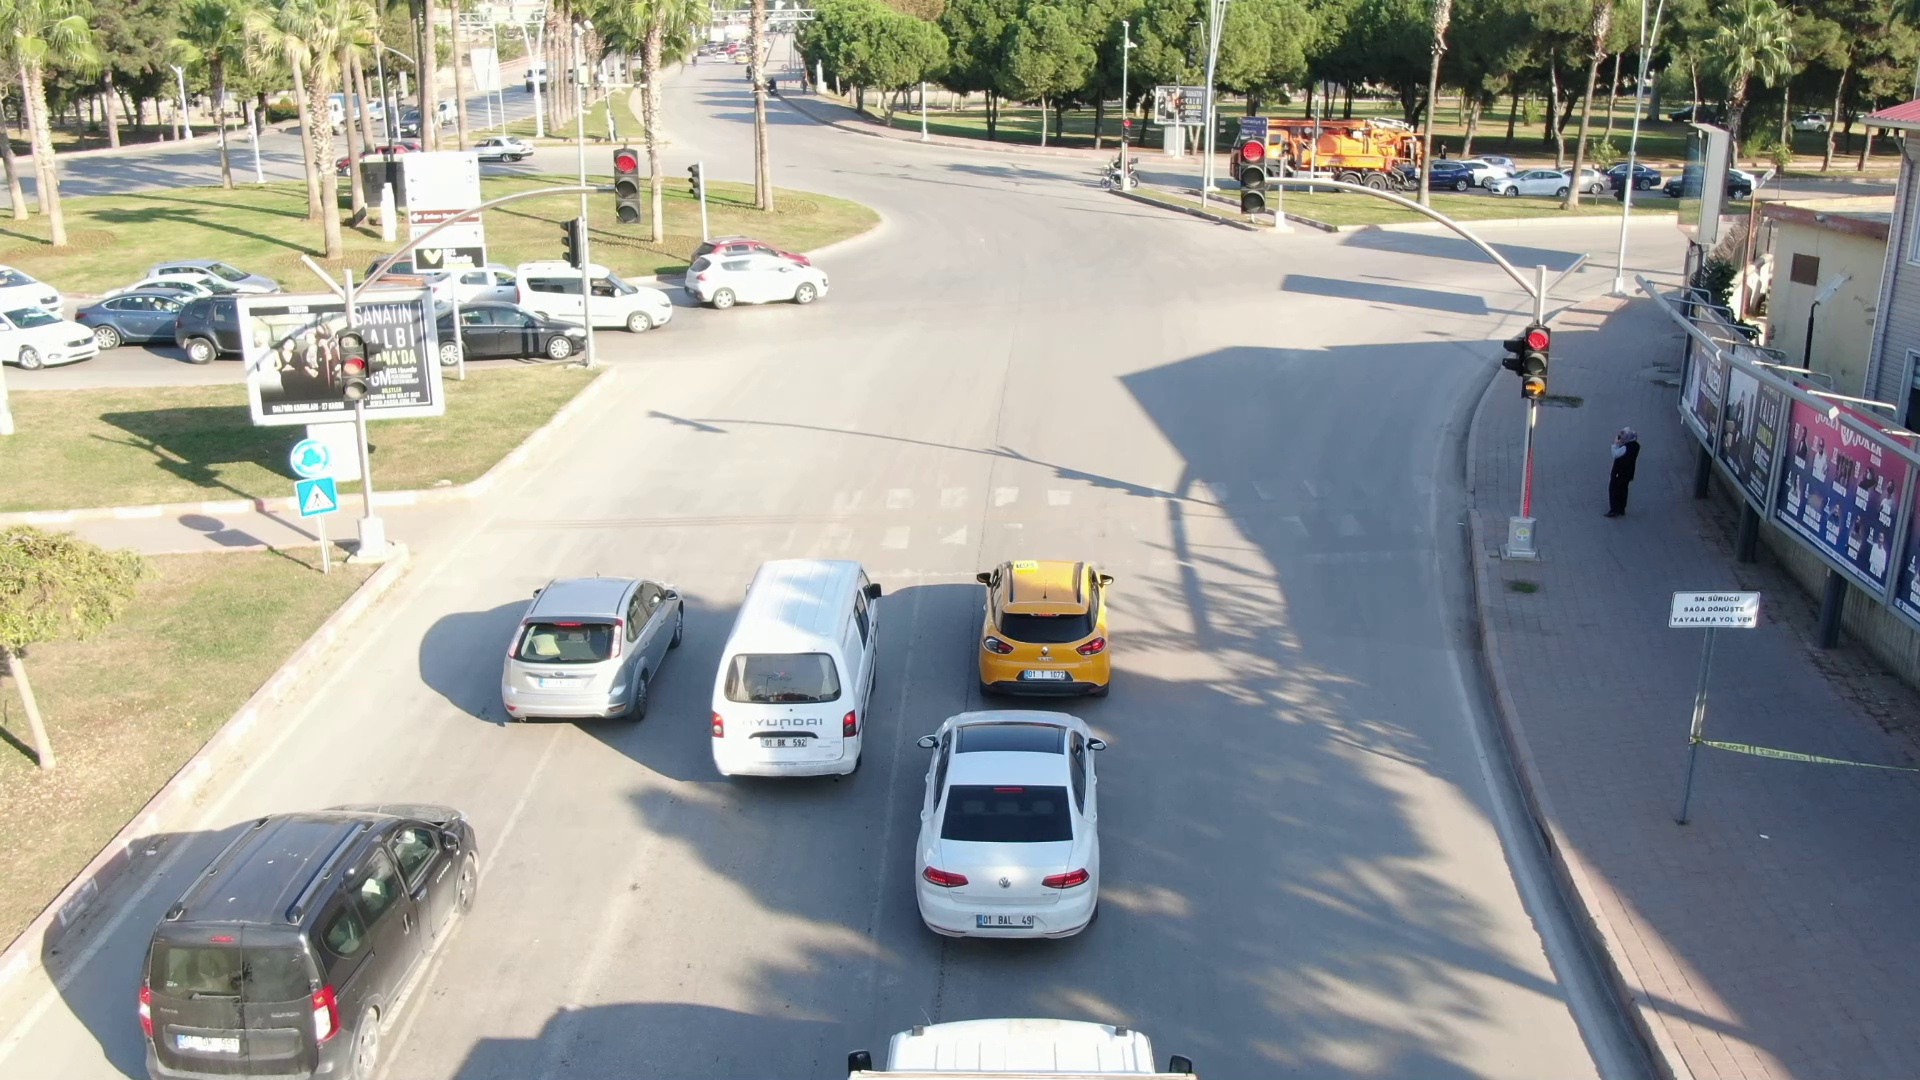car: (118, 812, 506, 1080), (902, 712, 1110, 955), (706, 565, 896, 784), (494, 580, 696, 733), (955, 541, 1119, 702), (506, 259, 680, 321), (686, 249, 837, 308)
person: (1608, 433, 1651, 539)
